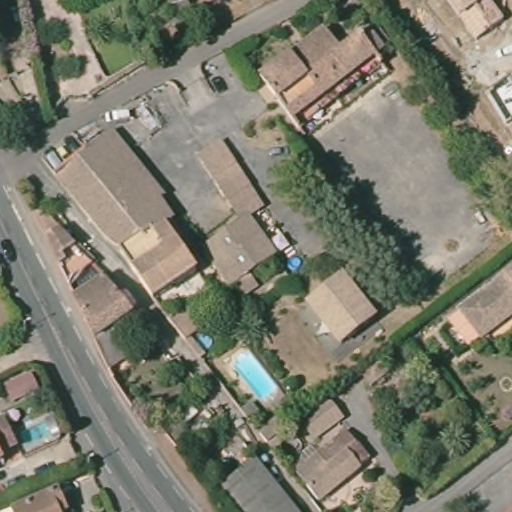pool: (223, 349, 281, 407), (16, 411, 65, 447), (193, 325, 219, 353), (284, 253, 305, 276)
